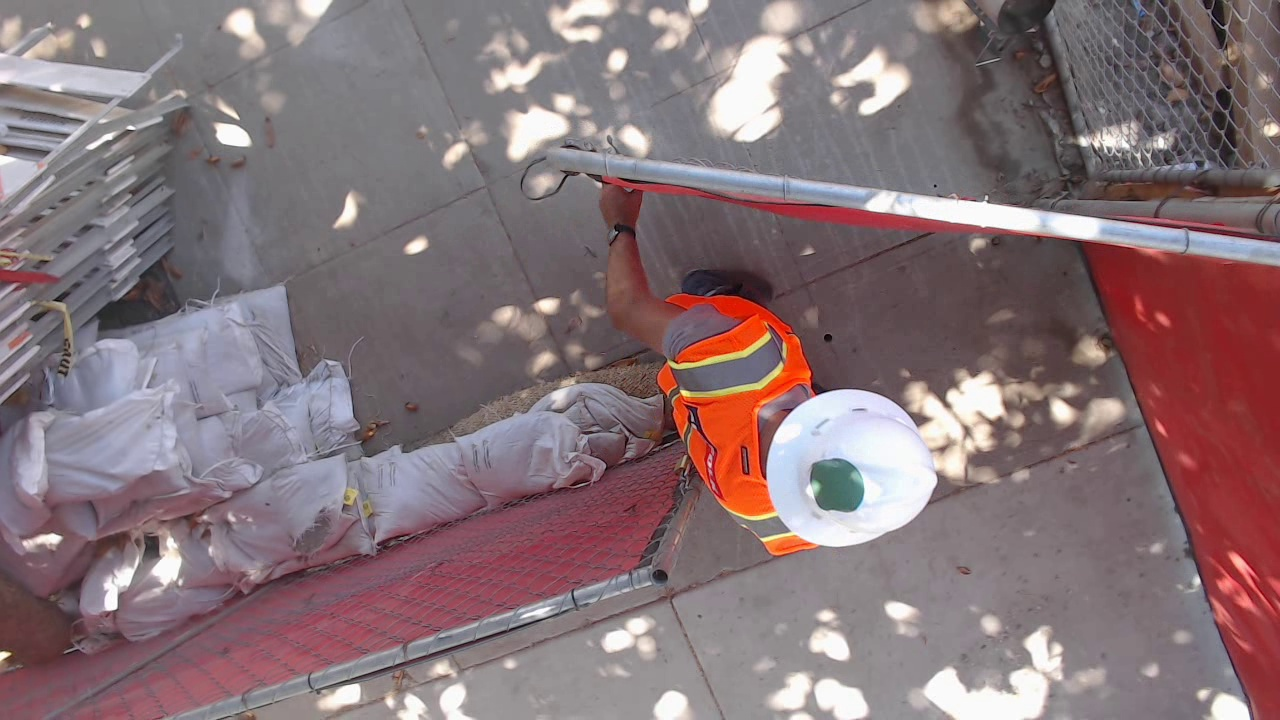green: (758, 411, 824, 457)
hardhat: (702, 380, 858, 559)
person: (493, 292, 810, 524)
safetyvest: (570, 318, 780, 507)
